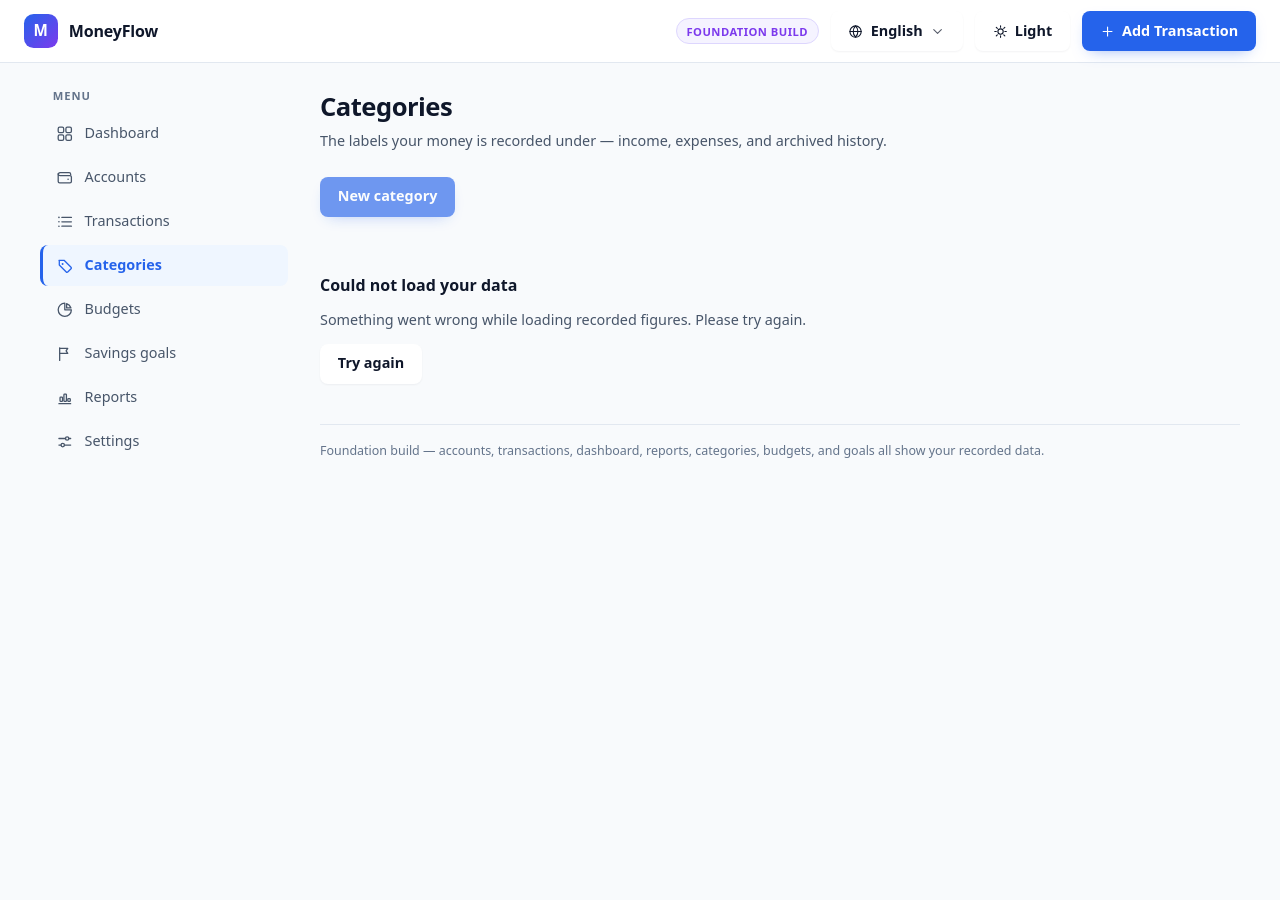
Test: categories route (wired to GET /api/v1/categories) › renders a calm error state and retries on demand
Expected: the text "Could not load your data" is shown, [320,272,517,297]
Click the button "Try again" at {"x": 371, "y": 364}, box [320,344,422,384]
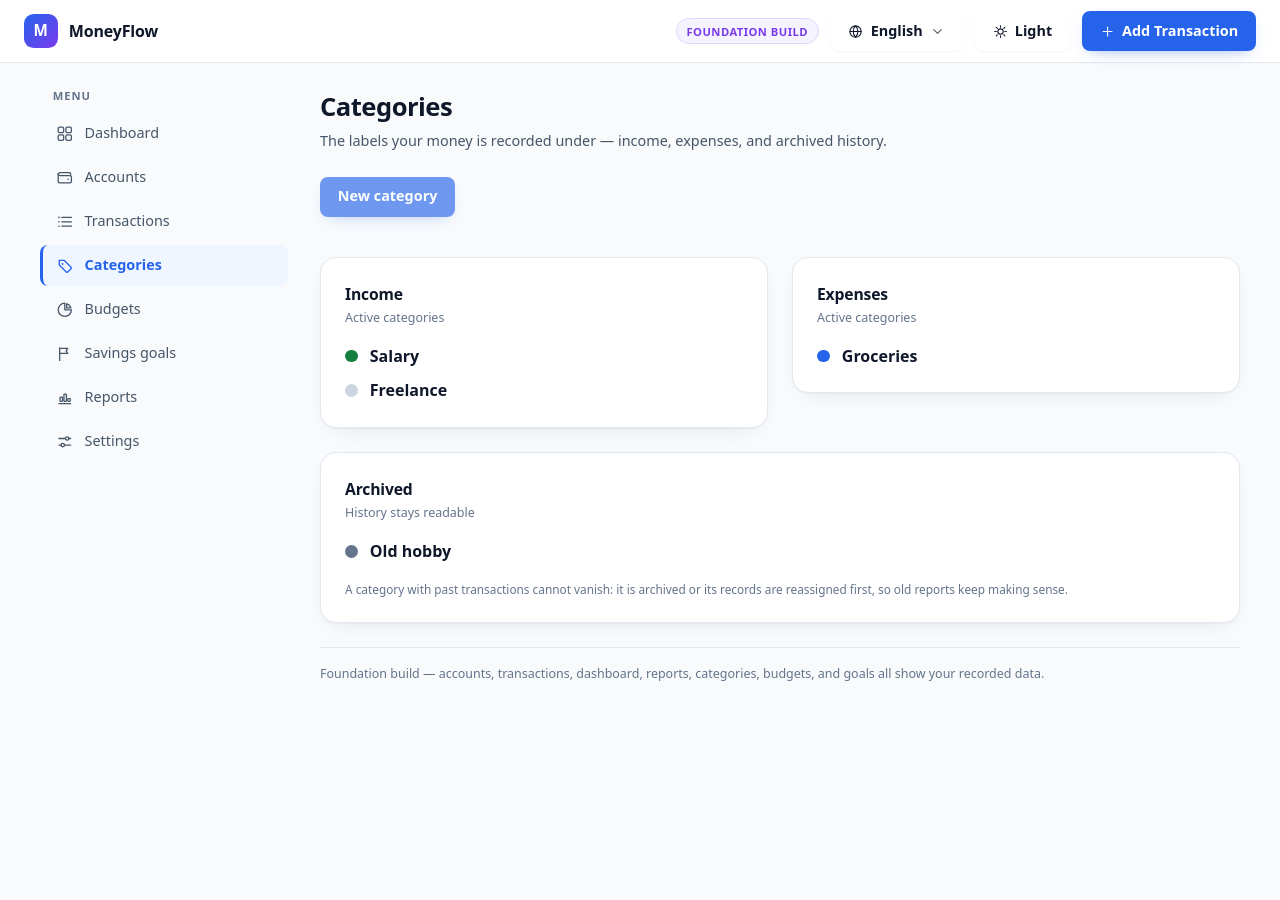
Expected: the text "Salary" is shown, [370,344,419,368]
